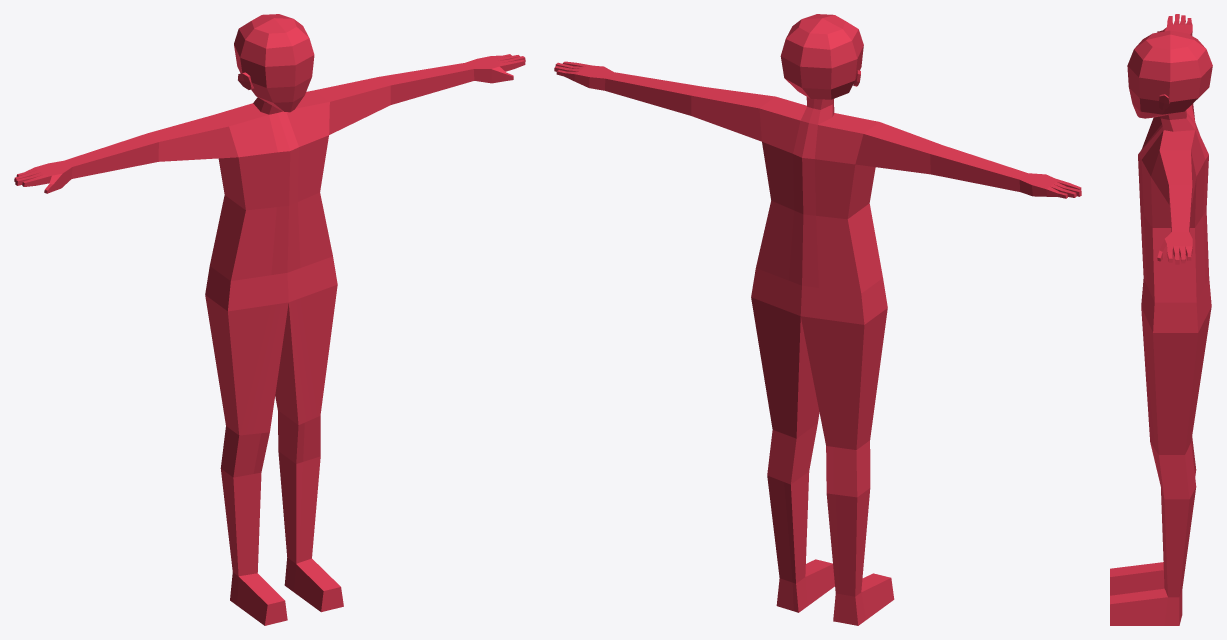
Rendered from 160cmDummy.fbx.
The picture shows the model from 3 angles, left to right: view 1: azimuth 30°, elevation 25°; view 2: azimuth 150°, elevation 25°; view 3: azimuth 270°, elevation 25°; orthographic projection. The views are drawn at different scales.
Parts seen in each view (by area): view 1: Cube.005; view 2: Cube.005; view 3: Cube.005.
Part boxes in pixels (x1,y1,x2,y2): Cube.005: (14,14,525,625); Cube.005: (554,14,1081,625); Cube.005: (1110,14,1212,625).
Bounding box in the file's own units: 148 × 160 × 26.11.
